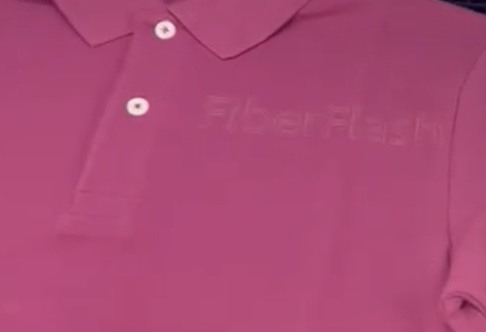button: (123, 89, 152, 120), (151, 16, 179, 45)
